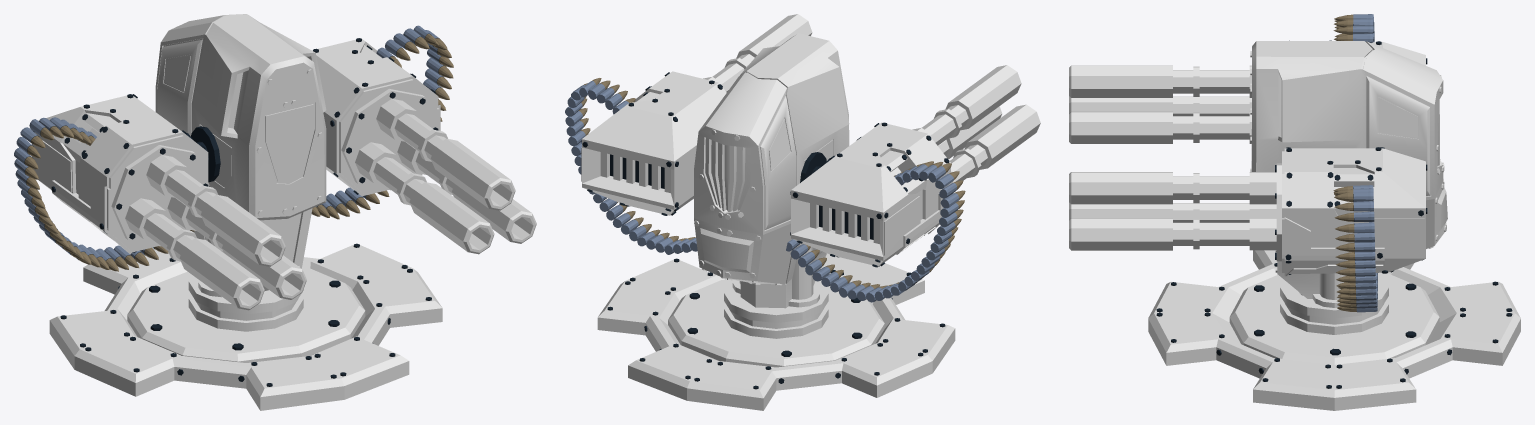
File: Gatling.fbx
3 views of the same model, side by side, from view 1: azimuth 30°, elevation 25°; view 2: azimuth 150°, elevation 25°; view 3: azimuth 270°, elevation 25° (orthographic). The views are drawn at different scales.
Parts seen in each view (by area): view 1: Gatling Base, Gatling Core, Gatling Barrel 1, Gattling Barrel 2, Gatling Turret 1, Gatling Turret 1.001, Bullet.001, Bullet; view 2: Gatling Core, Gatling Base, Gatling Turret 1, Gatling Turret 1.001, Gatling Barrel 1, Bullet.001, Bullet, Gattling Barrel 2; view 3: Gatling Base, Gatling Core, Gattling Barrel 2, Gatling Turret 1.001, Gatling Barrel 1, Bullet, Bullet.001, Gatling Turret 1.
Part boxes in pixels (x1,y1,x2,y2): Gatling Base: (49,238,442,410); Gatling Core: (155,14,326,331); Gatling Barrel 1: (111,145,306,310); Gattling Barrel 2: (341,89,536,254); Gatling Turret 1: (32,94,220,254); Gatling Turret 1.001: (312,38,440,196); Bullet.001: (14,117,194,271); Bullet: (311,25,453,219); Gatling Core: (694,33,849,338); Gatling Base: (597,253,955,410); Gatling Turret 1: (790,122,953,267); Gatling Turret 1.001: (581,71,726,215); Gatling Barrel 1: (912,65,1040,182); Bullet.001: (786,161,965,302); Bullet: (565,78,697,254); Gattling Barrel 2: (703,14,812,92); Gatling Base: (1148,250,1520,410); Gatling Core: (1250,41,1447,334); Gattling Barrel 2: (1069,163,1281,261); Gatling Turret 1.001: (1282,147,1427,276); Gatling Barrel 1: (1069,65,1251,143); Bullet: (1333,185,1377,312); Bullet.001: (1333,14,1374,42); Gatling Turret 1: (1289,40,1427,65).
Bounding box in the file's own units: 170 × 114 × 166.
